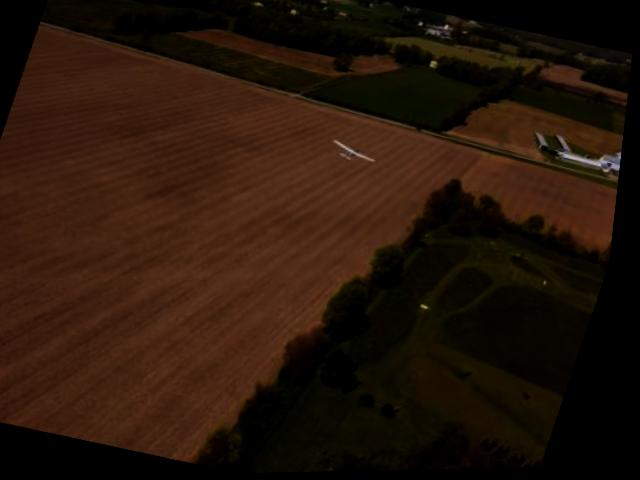uav: (319, 125, 395, 181)
